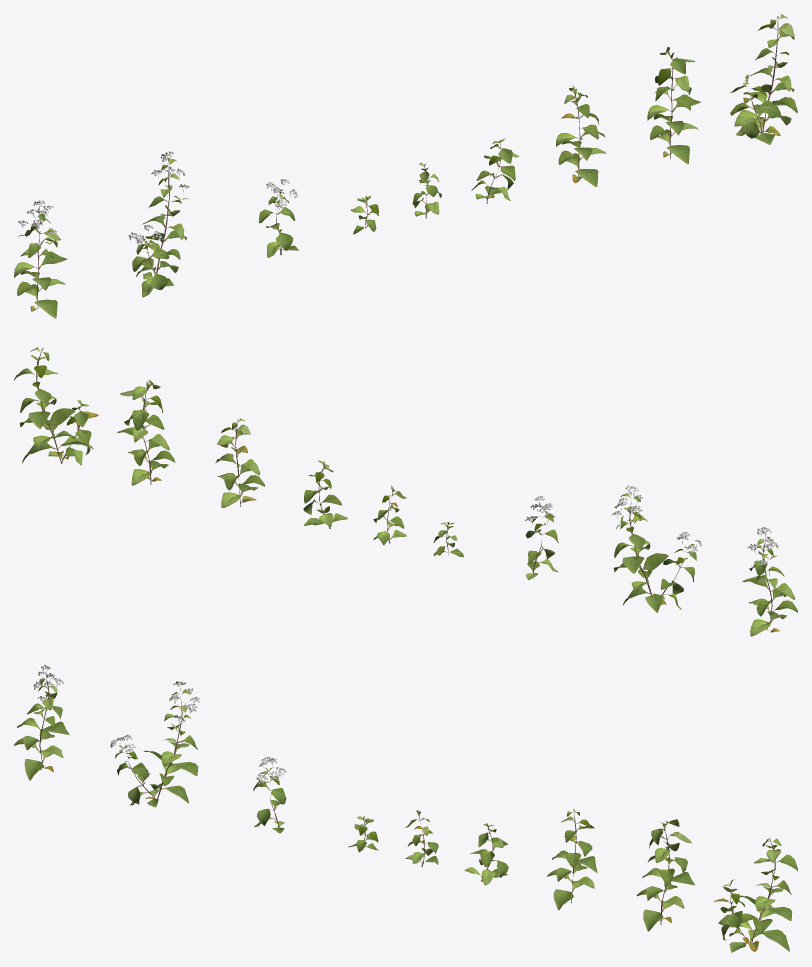
The model's file is shrub_01.glb.
3 renders of one model, top to bottom at view 1: azimuth 30°, elevation 25°; view 2: azimuth 150°, elevation 25°; view 3: azimuth 330°, elevation 25°, orthographic. The views are drawn at different scales.
Parts seen in each view (by area): view 1: shrub_01_a; view 2: shrub_01_a; view 3: shrub_01_a.
Boxes of the visible parts, bbox=[...] form: shrub_01_a: bbox=[14, 14, 797, 318]; shrub_01_a: bbox=[14, 347, 797, 636]; shrub_01_a: bbox=[14, 665, 797, 952].
Size of the model in its own units: 2.59 by 0.3956 by 0.2179.
1 material, 1 textured.
